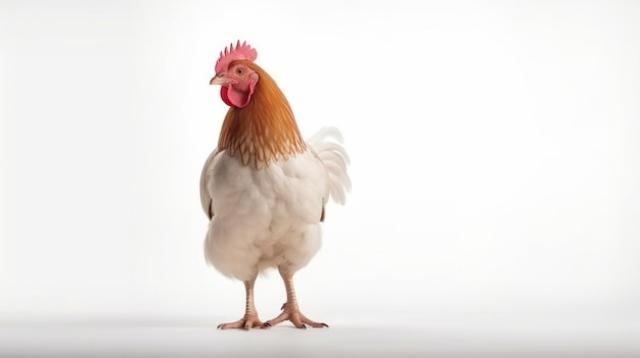Chicken: (199, 37, 351, 330)
